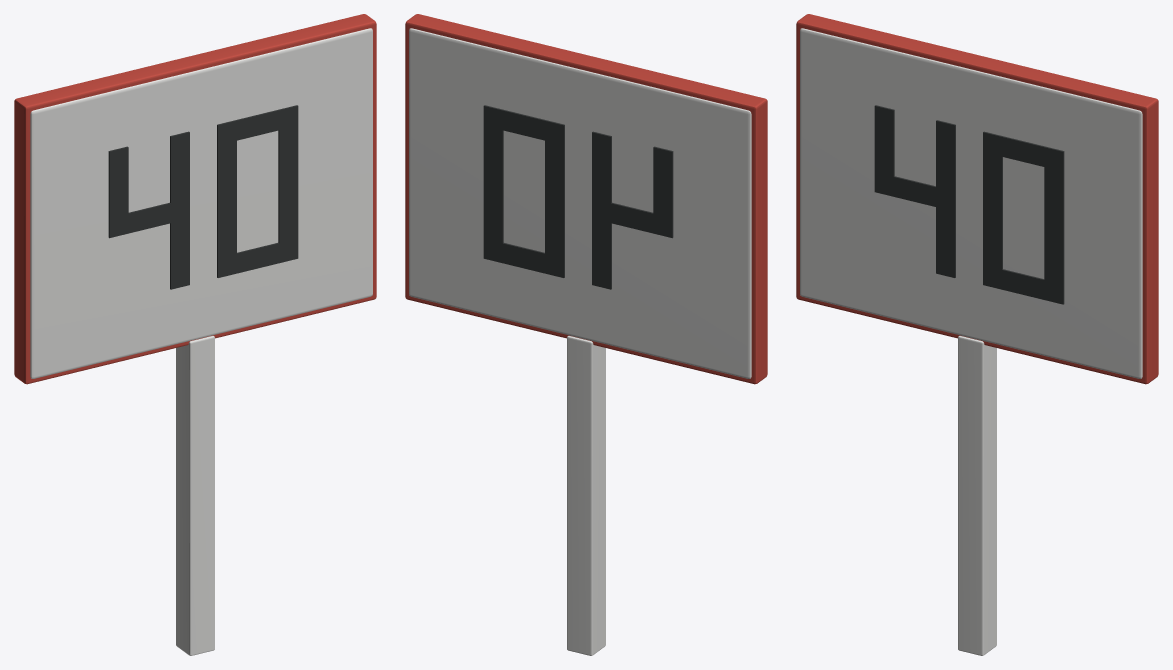
Rendered from sport.stunt.yard_board_40.glb.
3 views of the same model, side by side, from view 1: azimuth 30°, elevation 25°; view 2: azimuth 150°, elevation 25°; view 3: azimuth 330°, elevation 25° (orthographic).
Visible parts, largest first — view 1: main__paint_eed, main__paint_333, main__paint_c44; view 2: main__paint_eed, main__paint_333, main__paint_c44; view 3: main__paint_eed, main__paint_333, main__paint_c44.
Part boxes in pixels (x1,y1,x2,y2): main__paint_eed: (30, 28, 372, 655); main__paint_333: (108, 105, 298, 289); main__paint_c44: (14, 14, 376, 384); main__paint_eed: (409, 28, 751, 655); main__paint_333: (483, 105, 673, 289); main__paint_c44: (405, 14, 767, 384); main__paint_eed: (800, 28, 1142, 655); main__paint_333: (874, 105, 1064, 304); main__paint_c44: (796, 14, 1158, 384).
Size of the model in its own units: 0.82 by 1.31 by 0.068.
